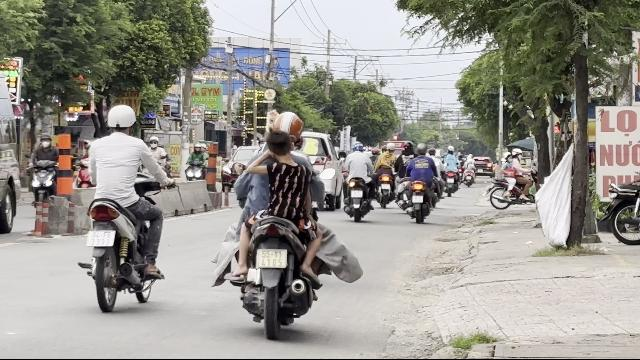helmet: (272, 112, 304, 144), (105, 104, 137, 134)
licenseplate: (257, 248, 287, 268), (86, 230, 115, 246)
motorcyclist: (212, 110, 358, 334), (78, 101, 170, 310)
nohelmet: (264, 131, 292, 159)
